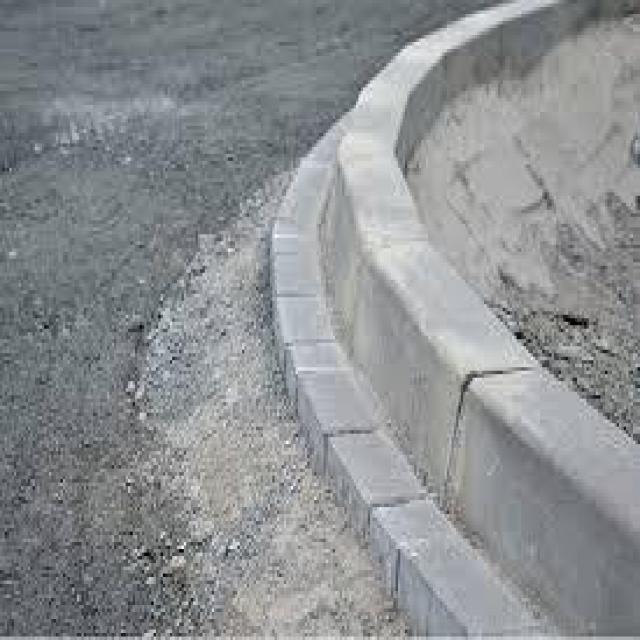curb: (285, 232, 536, 531), (364, 366, 637, 640), (267, 149, 425, 367)
